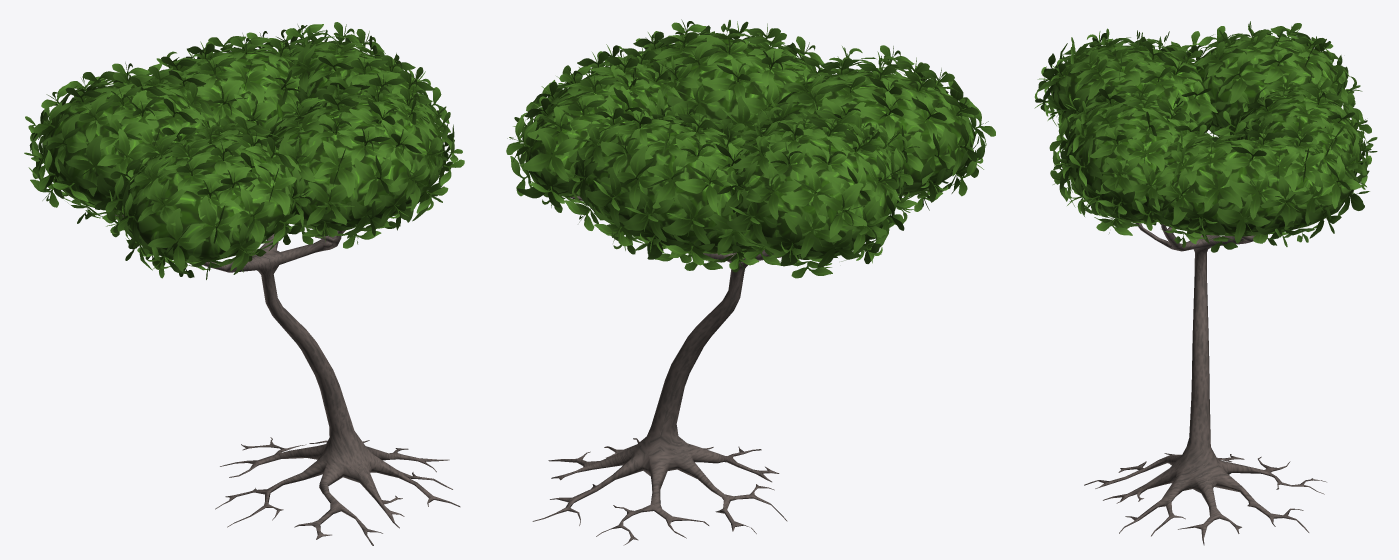
Rendered from Tree01.fbx.
3 renders of one model, left to right at view 1: azimuth 30°, elevation 25°; view 2: azimuth 150°, elevation 25°; view 3: azimuth 270°, elevation 25°, orthographic. The views are drawn at different scales.
Parts seen in each view (by area): view 1: tree; view 2: tree; view 3: tree.
Part boxes in pixels (x1=…): tree: x1=24, y1=22, x2=464, y2=545; tree: x1=506, y1=19, x2=995, y2=545; tree: x1=1034, y1=21, x2=1377, y2=545.
Size of the model in its own units: 22.01 by 24.28 by 19.55.
